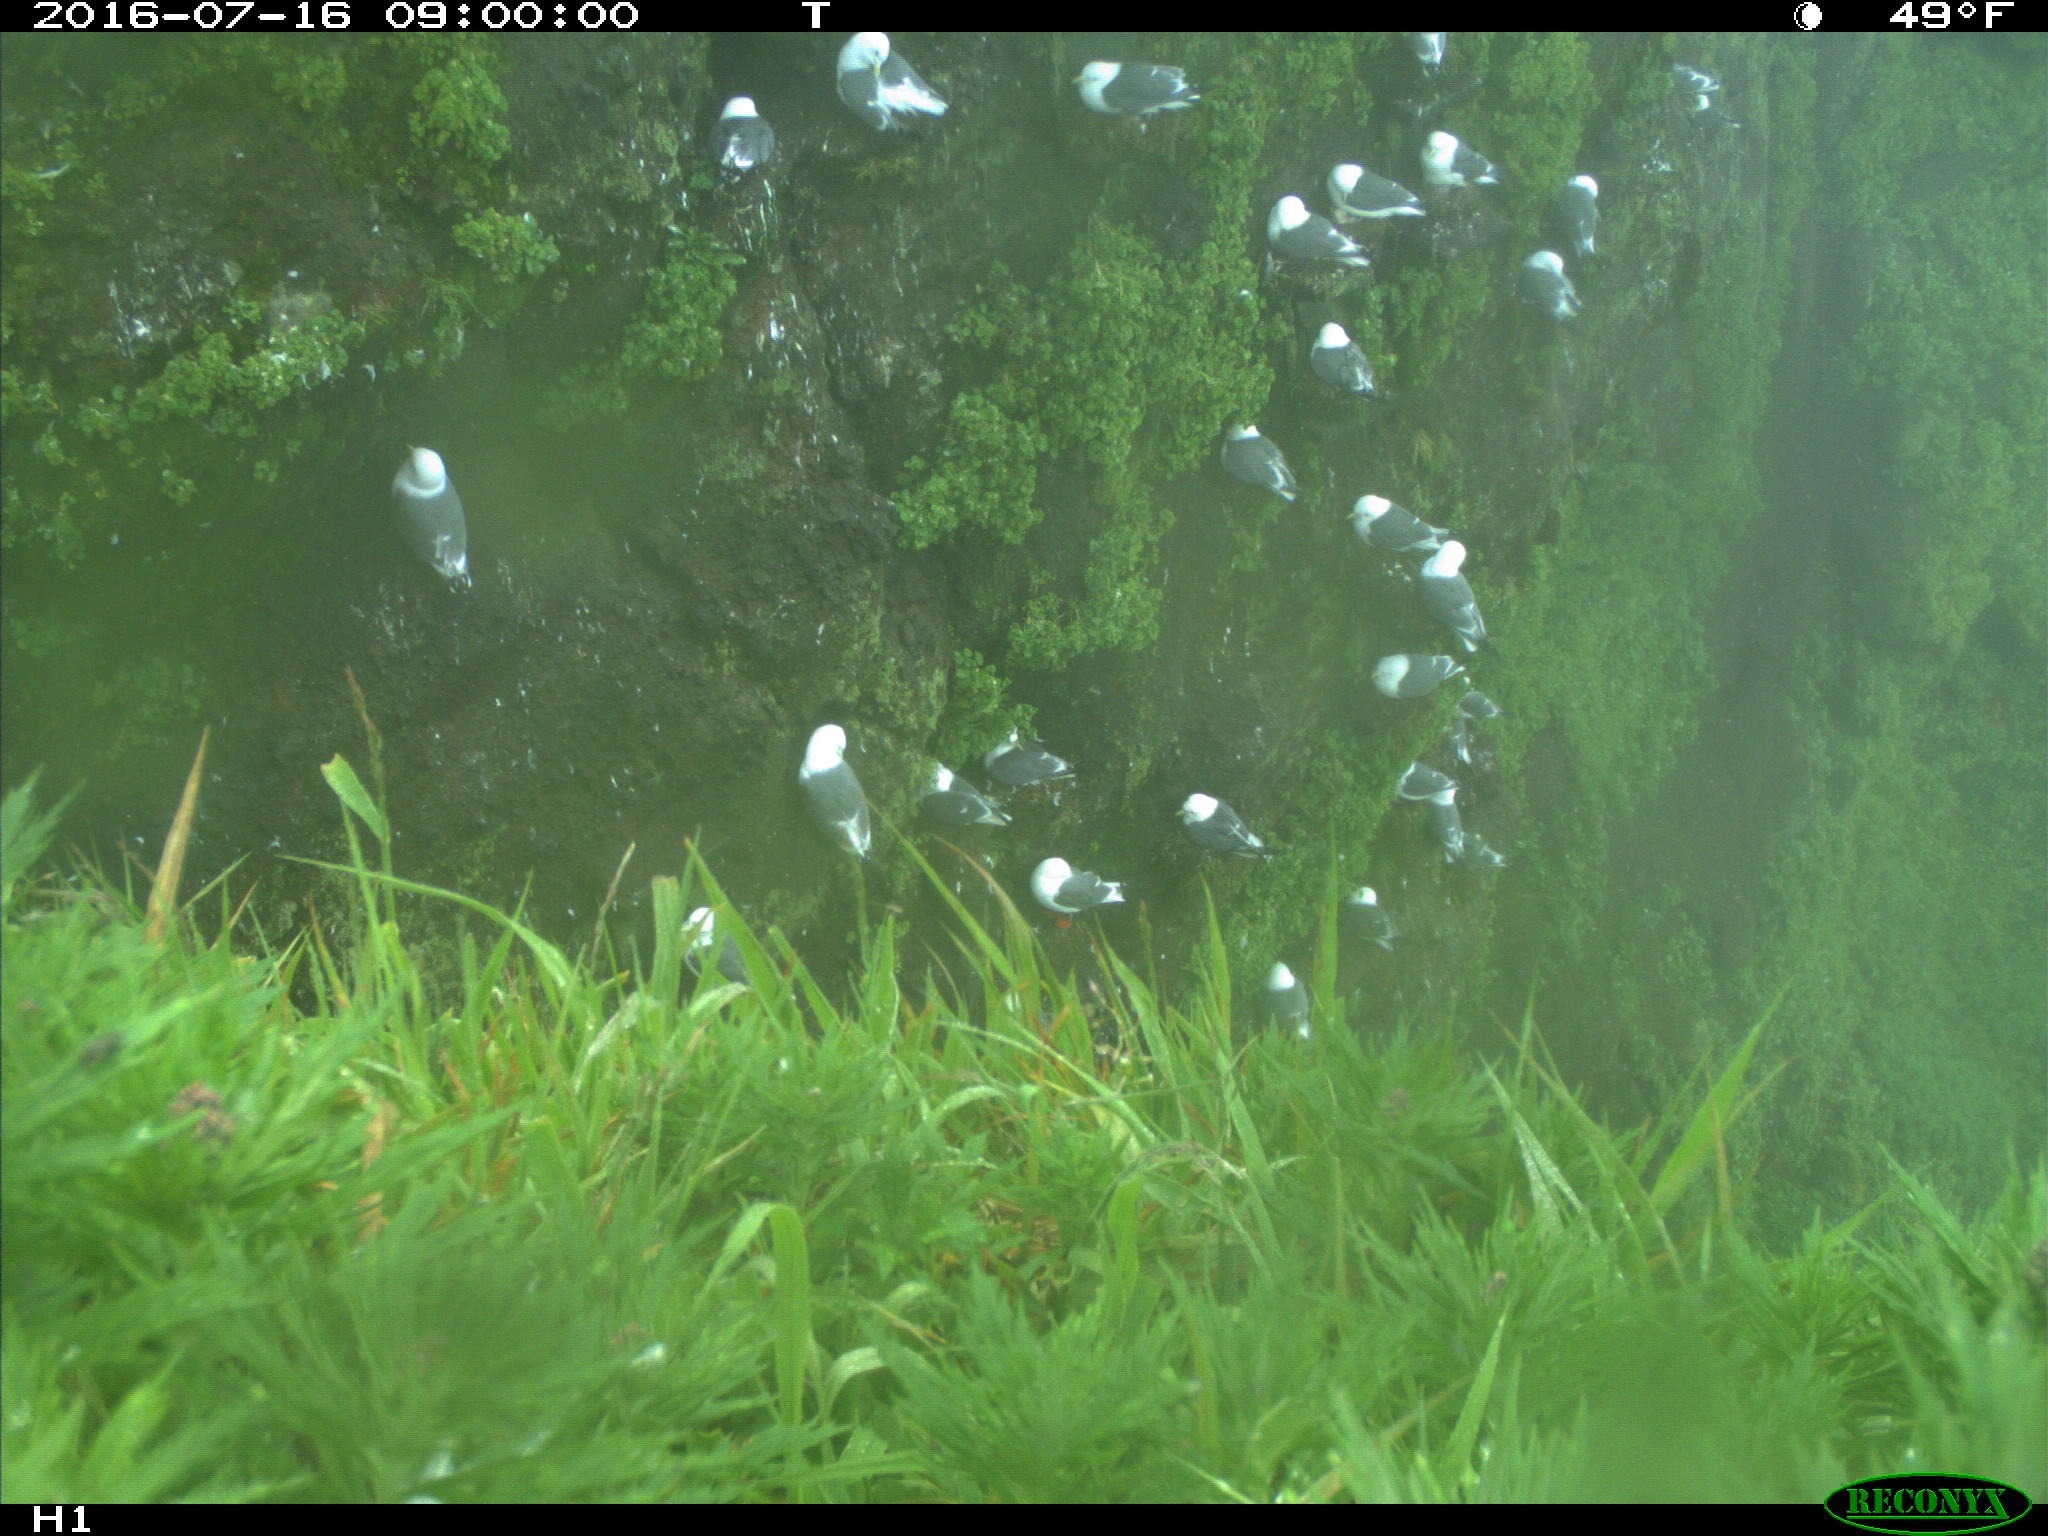Kittiwake: (356, 432, 511, 600), (789, 695, 898, 894), (810, 27, 984, 145), (1051, 37, 1234, 148), (660, 891, 826, 1008), (1259, 187, 1413, 307), (682, 68, 805, 203), (1153, 768, 1287, 887), (1393, 529, 1519, 653), (1303, 137, 1451, 239), (1392, 103, 1538, 202), (1014, 842, 1147, 947), (1208, 399, 1317, 521), (1329, 479, 1505, 550), (977, 695, 1093, 802), (914, 739, 1021, 849), (1496, 234, 1608, 336), (1250, 944, 1342, 1063), (1300, 315, 1409, 415), (1655, 53, 1763, 148), (1335, 639, 1472, 707), (1538, 155, 1627, 257), (1405, 810, 1543, 863), (1413, 689, 1506, 753), (1329, 876, 1400, 960), (1385, 760, 1495, 812), (1401, 27, 1459, 87)
